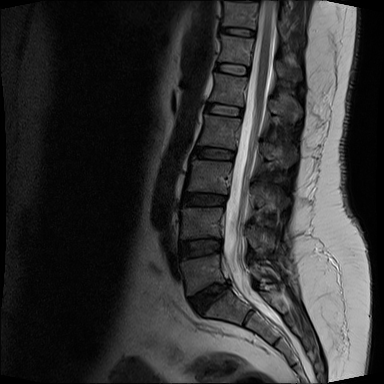Degenerative Disc Disease (DDD): (175, 189, 229, 212)
Lumbar Disc Bulge (LDB): (184, 275, 236, 322)
Normal IVD: (175, 234, 226, 263), (186, 144, 238, 162), (201, 101, 246, 120), (206, 59, 252, 77), (214, 24, 257, 38)
Spinal Stenosis (SS): (220, 273, 234, 295)
